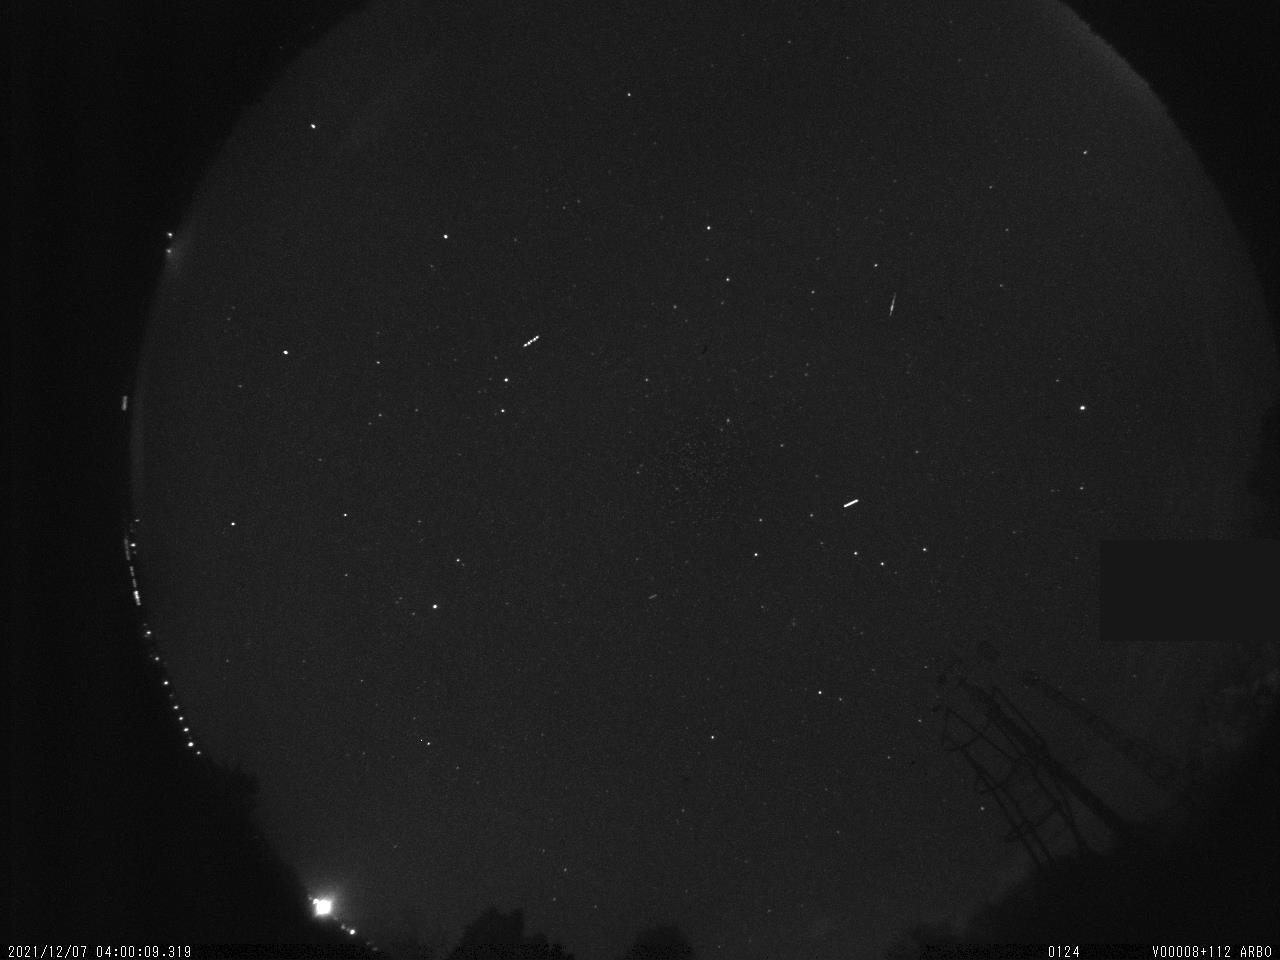Meteor: (884, 284, 900, 328)
